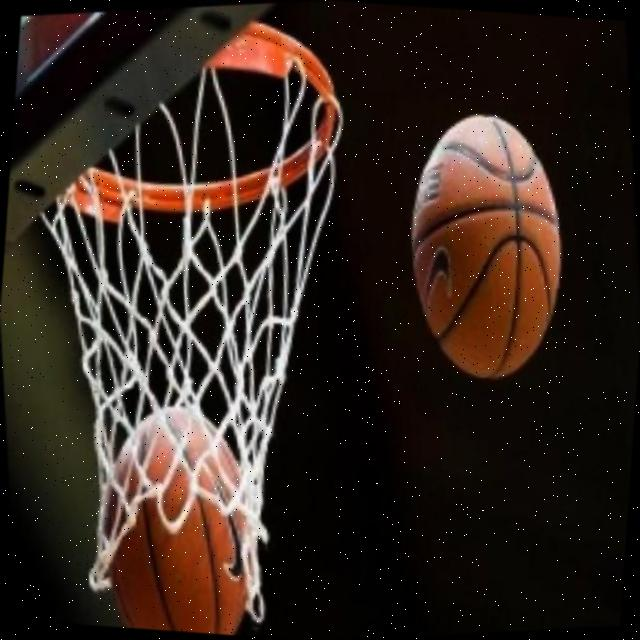ball: (372, 85, 604, 408), (64, 378, 293, 638)
hoop: (72, 8, 356, 232)
